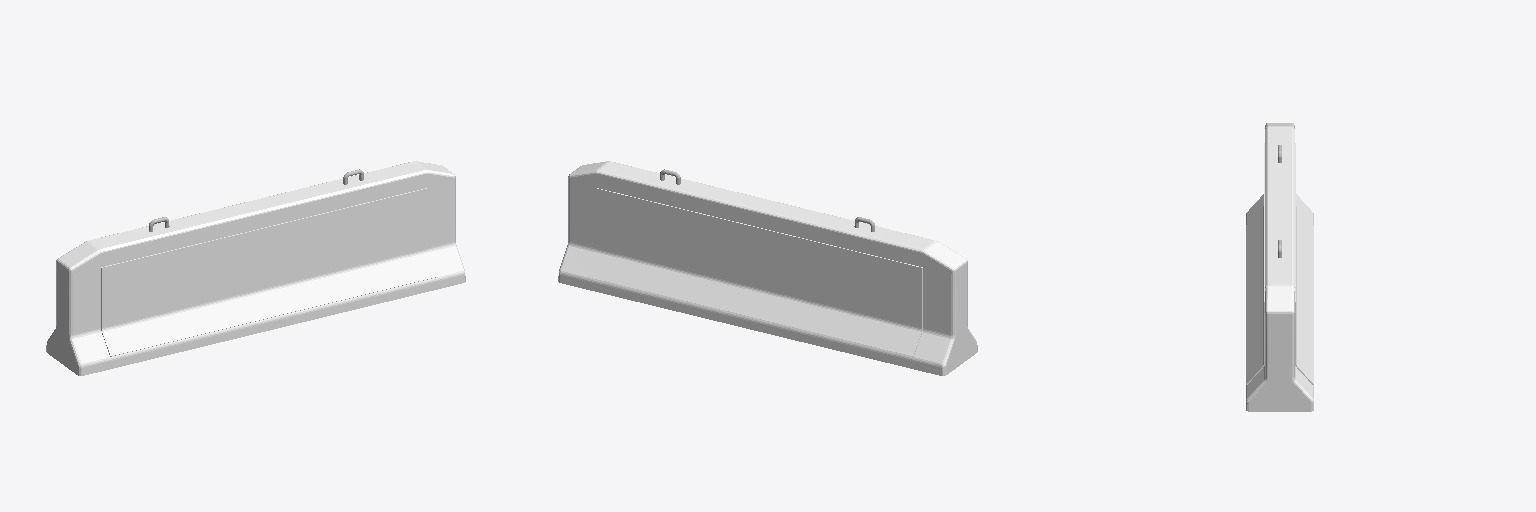
File: barrier1.obj
3 renders of one model, left to right at view 1: azimuth 30°, elevation 25°; view 2: azimuth 150°, elevation 25°; view 3: azimuth 270°, elevation 25°, orthographic.
Parts seen in each view (by area): view 1: Concrete; view 2: Concrete; view 3: Concrete.
Boxes of the visible parts, <box> form: Concrete: <box>46,161,465,375</box>; Concrete: <box>558,161,977,375</box>; Concrete: <box>1246,123,1313,411</box>.
Bounding box in the file's own units: 3.75 × 1.13 × 0.5737.